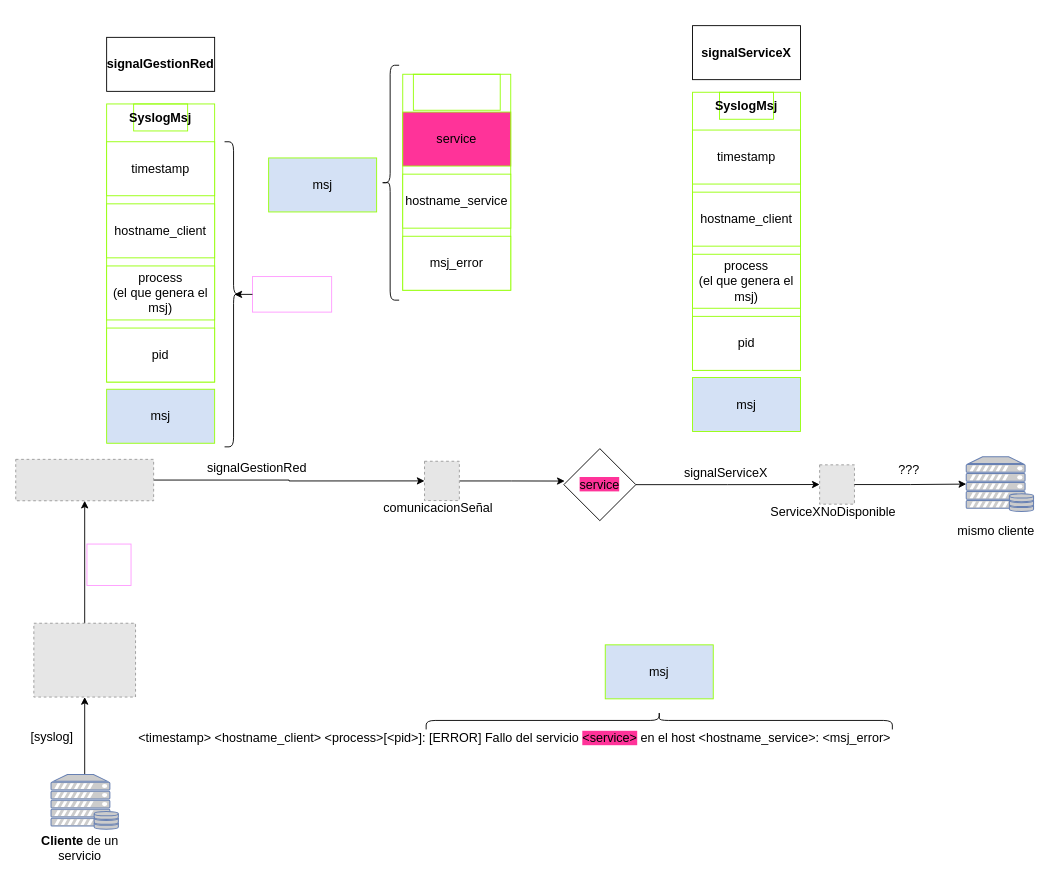
This 1058x884 diagram has some shape labels left out. Grey dashed boxes stand in for pictures. Each missing label, with the centre of its shape:
"[http] json" belongs at [108,564].
"json SyslogMsj" belongs at [292,294].
"normalización" belongs at [456,91].
